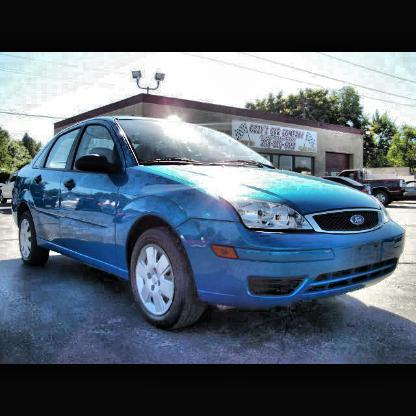Ford Focus Sedan 2007: (12, 117, 410, 330)
